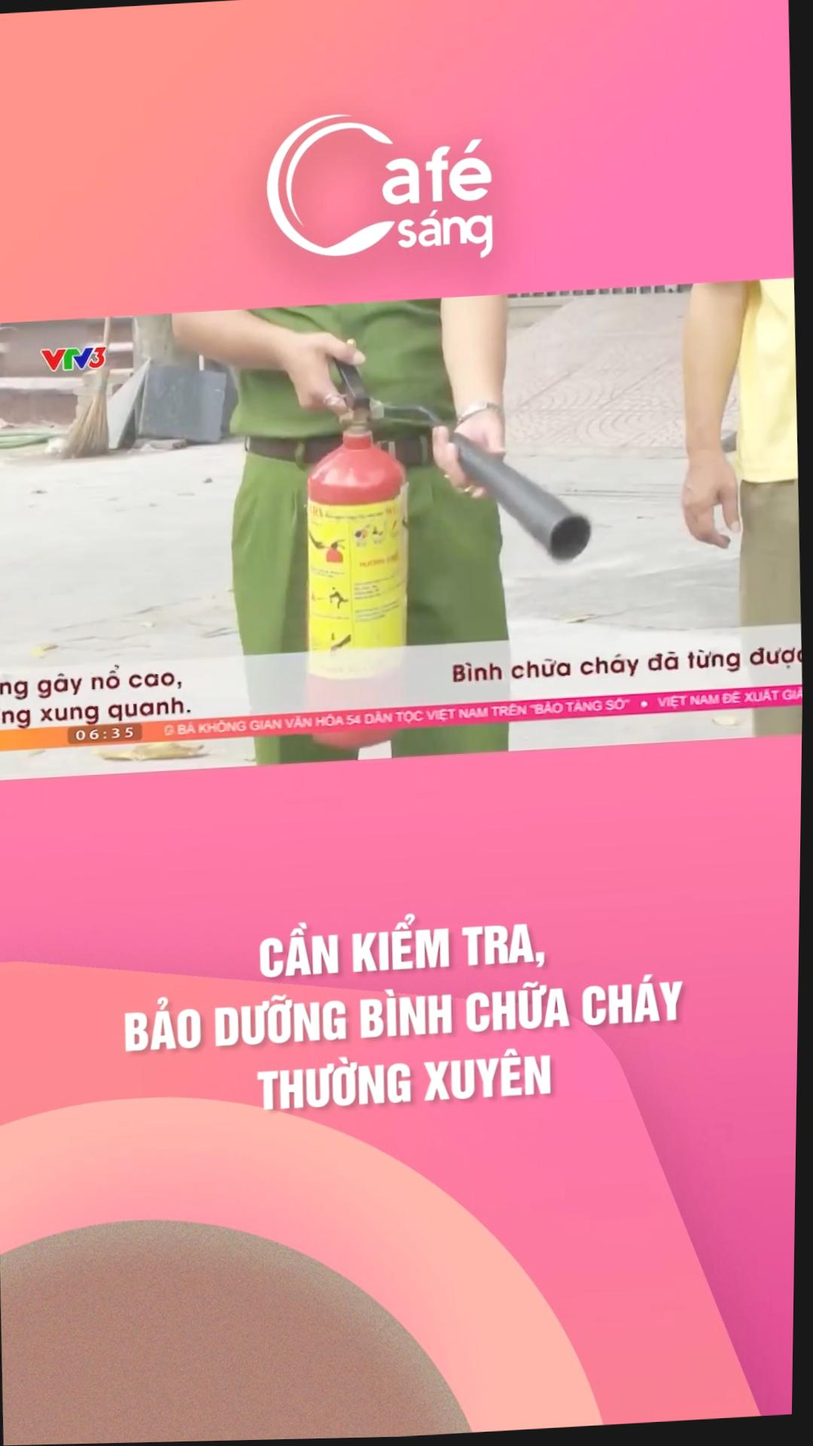FireExtinguisher: (283, 429, 429, 762)
